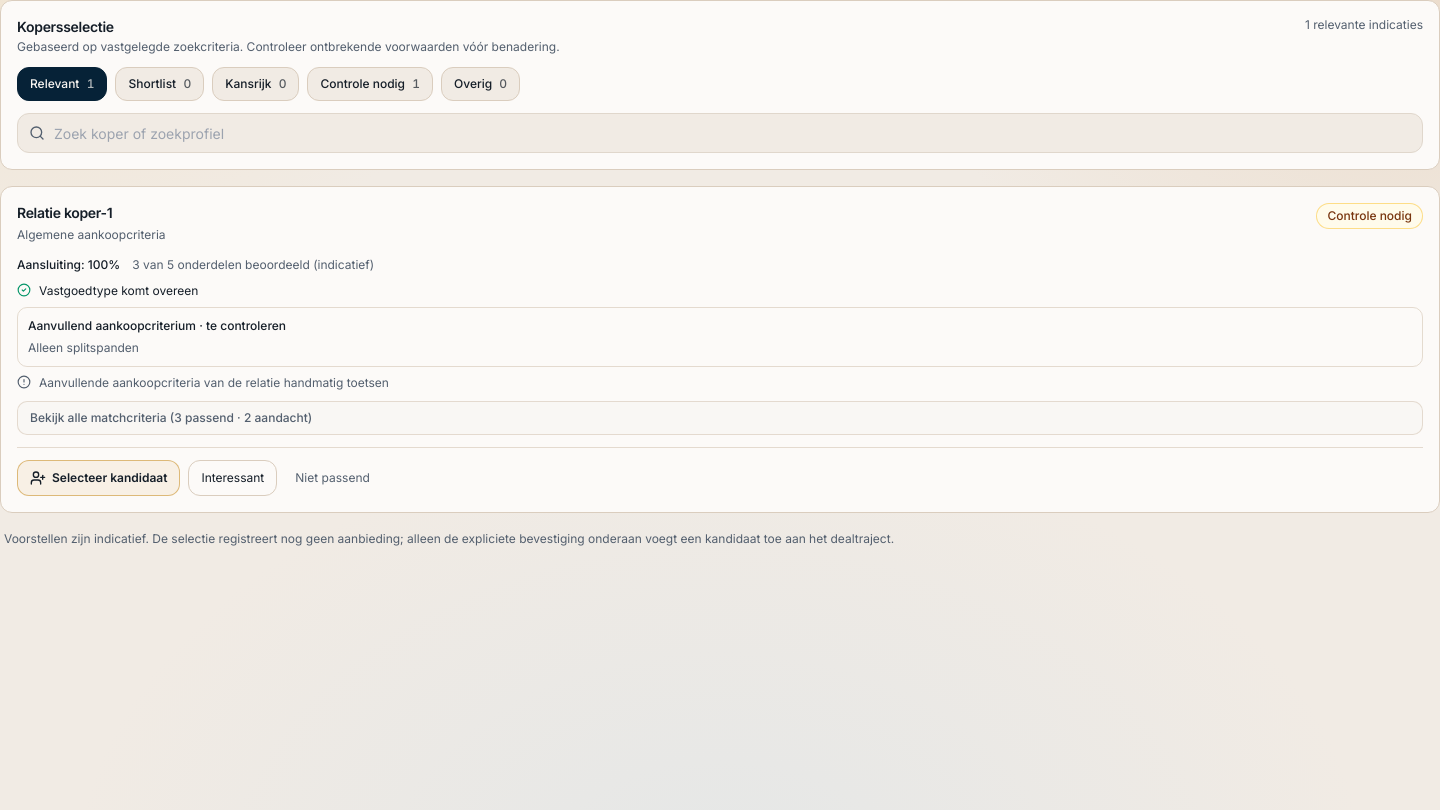
Test: Match-UI: professionele shortlist met controlepunten › toont meteen bewijs en open controle zonder gefingeerde matchpercentages
The width and height of the screenshot is (1440, 810).
Expected: the text "Vastgoedtype komt overeen" is shown, [39,281,198,301]
Expected: the text "Aanvullende aankoopcriteria van de relatie handmatig toetsen" is shown, [39,373,389,393]
What coordinates should you click on to do the following:
click the heading "Bekijk alle matchcriteria (3 passend · 2 aandacht)"
I would click on:
 (171, 418)
Its box is [30,410,312,425].
(page scrolled)
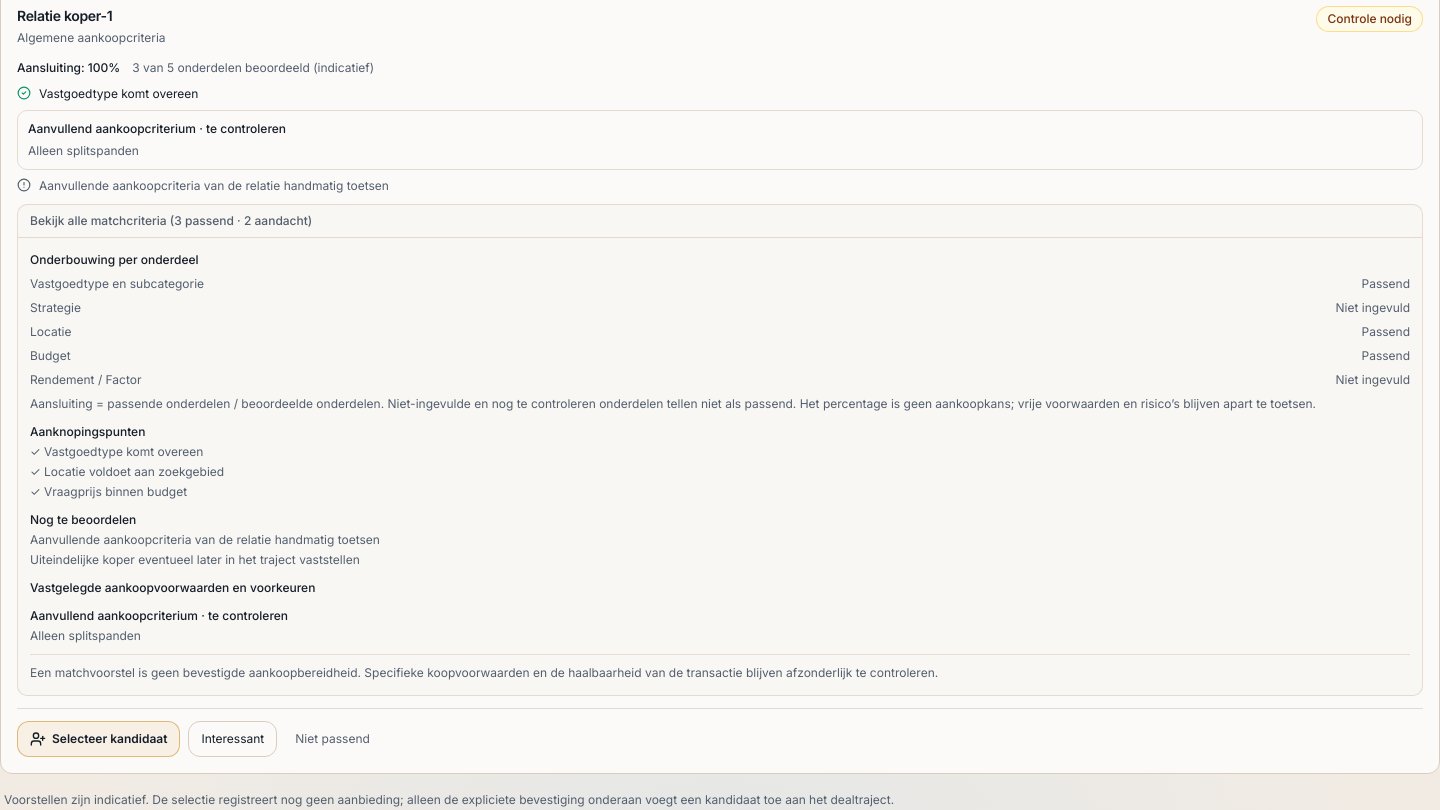
Expected: the text "Een matchvoorstel is geen bevestigde aankoopbereidheid" is shown, [30,665,938,680]
